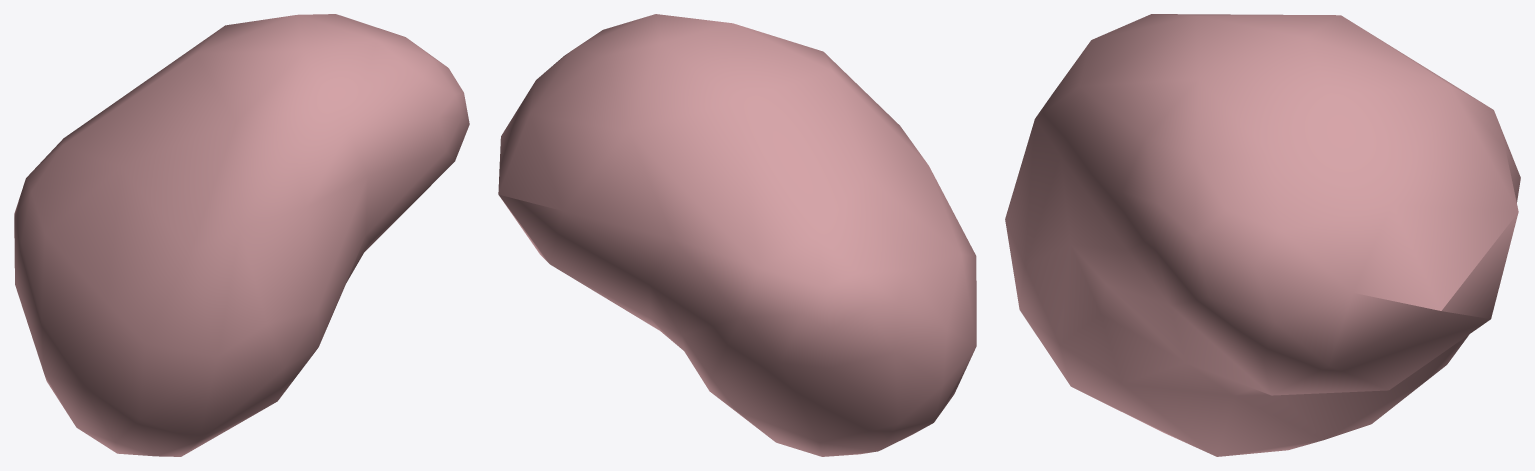
Rendered from fma16981_fj2627.glb.
3 renders of one model, left to right at view 1: azimuth 30°, elevation 25°; view 2: azimuth 150°, elevation 25°; view 3: azimuth 270°, elevation 25°, orthographic. The views are drawn at different scales.
Visible parts, largest first — view 1: FMA16981_FJ2627; view 2: FMA16981_FJ2627; view 3: FMA16981_FJ2627.
Part boxes in pixels (box(x1,y1,x2,y2)): FMA16981_FJ2627: box(14, 14, 469, 456); FMA16981_FJ2627: box(498, 14, 976, 456); FMA16981_FJ2627: box(1005, 14, 1520, 456).
Size of the model in its own units: 0.0361 by 0.0305 by 0.0275.
